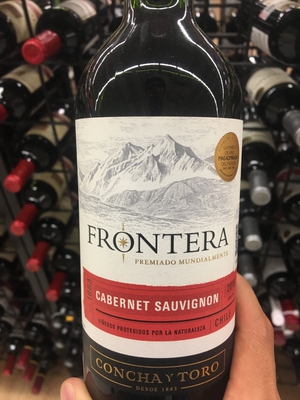frontera cabernet sauvignon: (74, 9, 246, 400)
